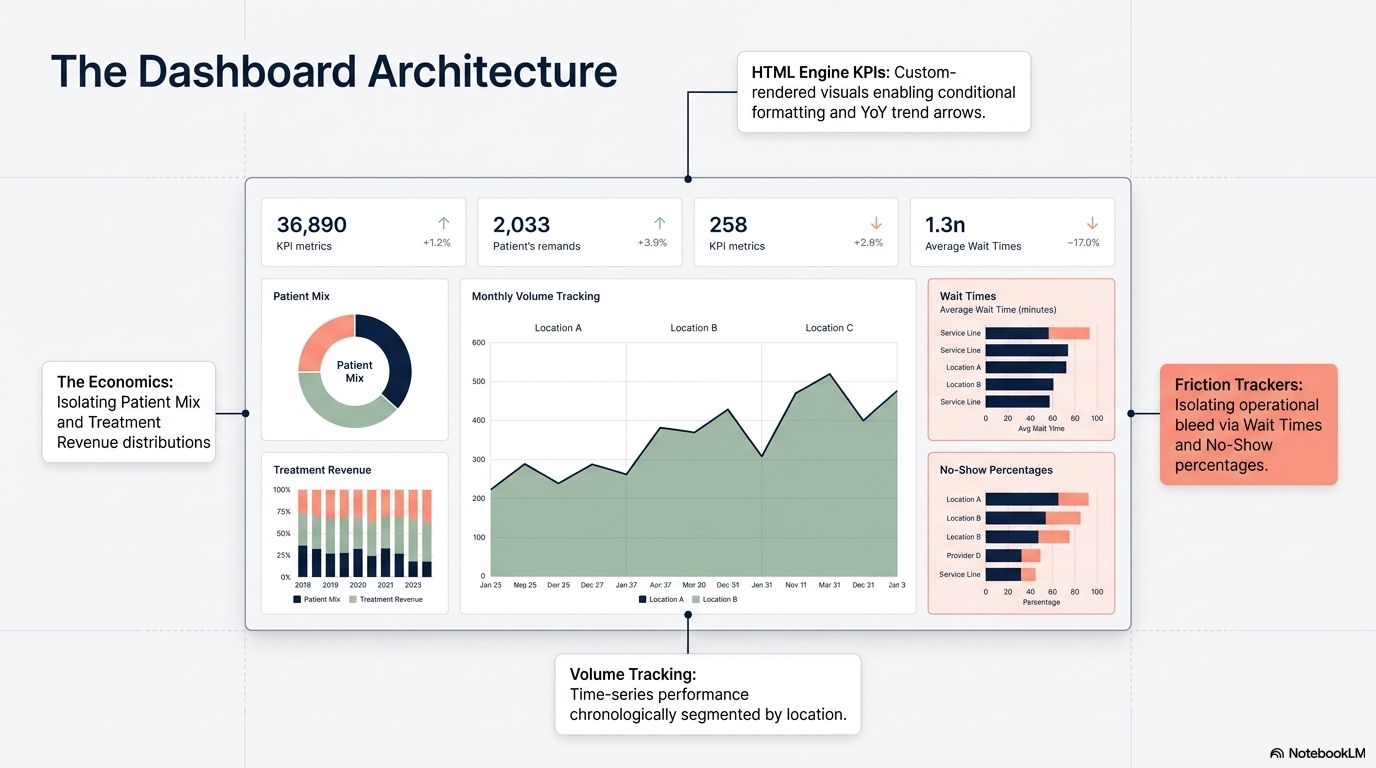

What the dashboard file says about the page in this screenshot:
{"tool":"powerbi","page":{"name":"REPORT","canvas":[1700,800],"ordinal":0},"visuals":[{"type":"htmlContent443BE3AD55E043BF878BED274D3A6865","fields":{"content":["Measures_table.KPI"]},"box":[308.8,98.7,1225.7,140.1],"z":0},{"type":"lineStackedColumnComboChart","title":"Total Revenue  & profit margin by location","fields":{"Category":["Data.location"],"Y":["Measures_table.Total_Revenue"],"Y2":["Measures_table.profit Margin"]},"box":[63.7,259.5,528.5,245.1],"z":1000},{"type":"barChart","fields":{"Y":["Measures_table.Revenue Per patient"],"Category":["Data.location"]},"box":[627.3,252,294.9,264.1],"z":2000},{"type":"hundredPercentStackedBarChart","fields":{"Category":["Data.location"],"Y":["Measures_table.Total_Revenue"],"Series":["Data.treatment_type"]},"box":[922.3,252,344.5,253.4],"z":3000},{"type":"barChart","fields":{"Y":["Measures_table.Total Appoinments"],"Category":["Data.location"],"Series":["Data.patient_type"]},"box":[1298.9,262.7,400.8,264.1],"z":4000},{"type":"areaChart","title":"Total Appoinments by  location","fields":{"Y":["Measures_table.Total Appoinments"],"Rows":["Data.location"],"Category":["dim_dates.Month Name"]},"box":[701.3,538.4,563.4,251],"z":5000},{"type":"barChart","fields":{"Category":["Data.location"],"Y":["Sum(Data.staff_cost_usd)","Sum(Data.equipment_cost_usd)"]},"box":[1297.3,537.7,390.7,251.8],"z":6000},{"type":"slicer","fields":{"Values":["dim_dates.Year"]},"box":[958.4,16.3,164.7,66.7],"z":7000},{"type":"slicer","fields":{"Values":["Data.location"]},"box":[1134,16.3,235.5,66.7],"z":8000},{"type":"slicer","fields":{"Values":["Data.treatment_type"]},"box":[1379.6,17.2,235.7,67.1],"z":9000},{"type":"textbox","box":[140.2,0,805.9,88.5],"z":10000},{"type":"image","box":[34,4.1,117.1,79],"z":11000},{"type":"htmlContent443BE3AD55E043BF878BED274D3A6865","fields":{"content":["Measures_table.Avg Wait Time Bar Chart HTML"]},"box":[35,515.7,327.9,262.6],"z":12000},{"type":"htmlContent443BE3AD55E043BF878BED274D3A6865","fields":{"content":["Measures_table.No show rate Bar Chart HTML"]},"box":[362.9,526.9,339,261],"z":13000}]}

Visuals, with their boxes on the page's 1700x800 design canvas (x1, y1, x2, y2). These are canvas units, not pixel positions in the 1376x768 screenshot, which may show the page scaled, cropped or inside an application window:
htmlContent443BE3AD55E043BF878BED274D3A6865 - Measures_table.KPI: (309,99,1534,239)
"Total Revenue  & profit margin by location" lineStackedColumnComboChart: (64,260,592,505)
barChart - Measures_table.Revenue Per patient x Data.location: (627,252,922,516)
hundredPercentStackedBarChart - Data.location x Measures_table.Total_Revenue: (922,252,1267,505)
barChart - Measures_table.Total Appoinments x Data.location: (1299,263,1700,527)
"Total Appoinments by  location" areaChart: (701,538,1265,789)
barChart - Data.location x Sum(Data.staff_cost_usd): (1297,538,1688,790)
slicer - dim_dates.Year: (958,16,1123,83)
slicer - Data.location: (1134,16,1370,83)
slicer - Data.treatment_type: (1380,17,1615,84)
textbox: (140,0,946,88)
image: (34,4,151,83)
htmlContent443BE3AD55E043BF878BED274D3A6865 - Measures_table.Avg Wait Time Bar Chart HTML: (35,516,363,778)
htmlContent443BE3AD55E043BF878BED274D3A6865 - Measures_table.No show rate Bar Chart HTML: (363,527,702,788)
